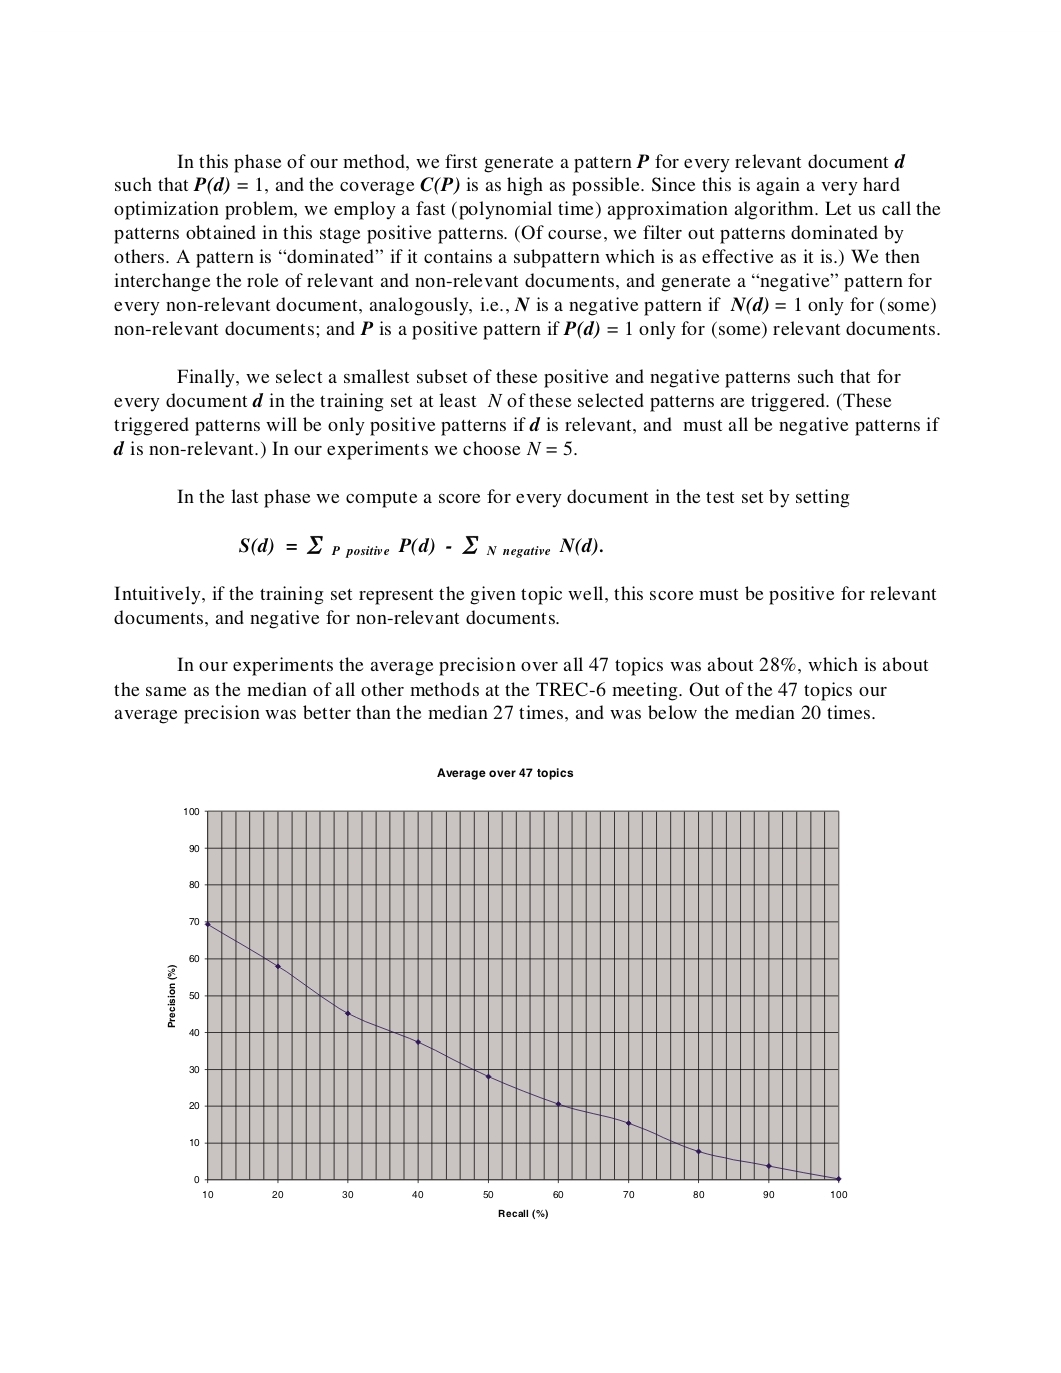Table: (167, 807, 841, 1184)
formula: (239, 535, 602, 558)
